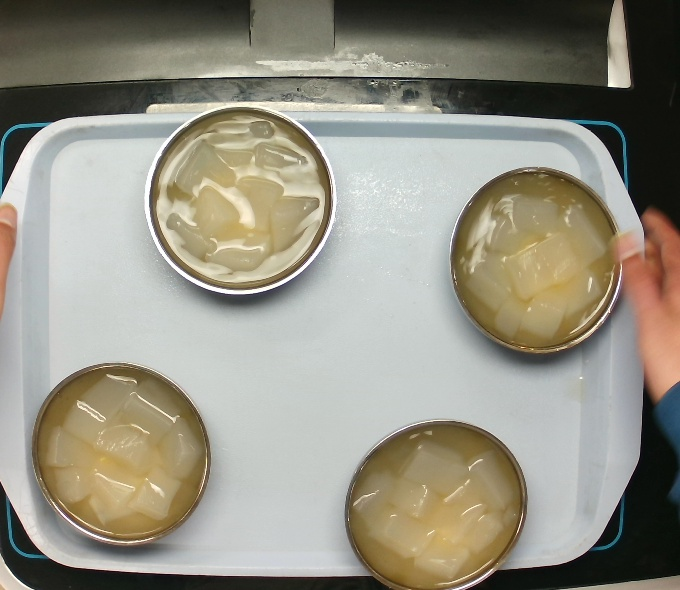wcq-YeGuoLi: (440, 155, 627, 366), (34, 356, 210, 548), (152, 116, 329, 291), (348, 416, 524, 586)
